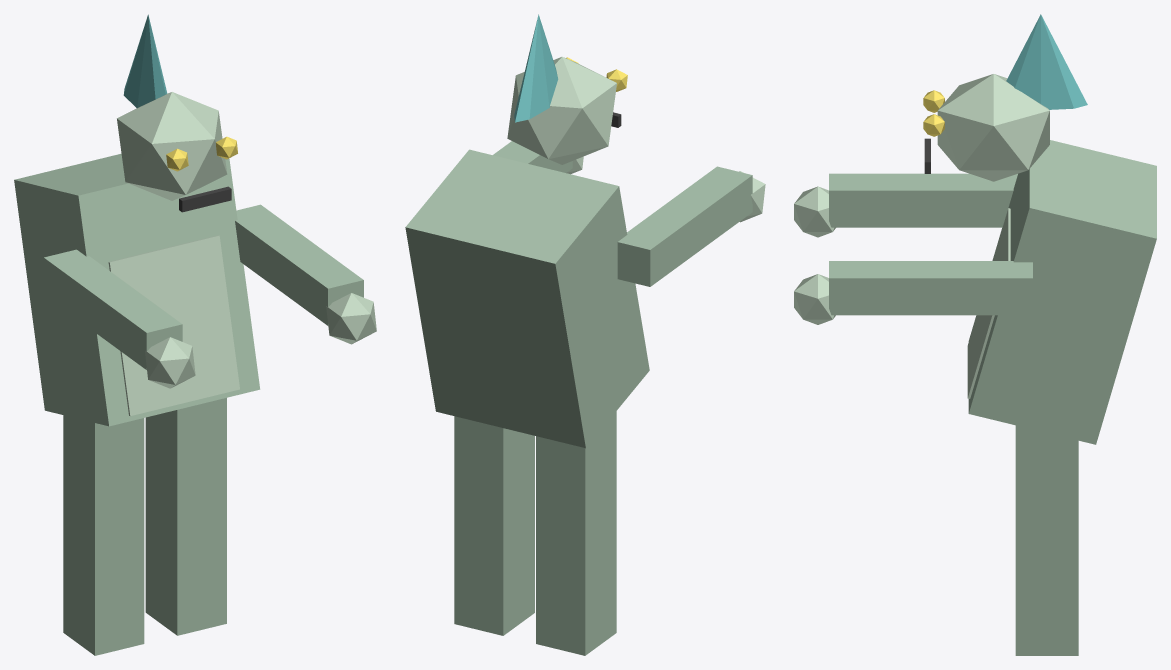
The model's file is Drowner.fbx.
3 views of the same model, side by side, from view 1: azimuth 30°, elevation 25°; view 2: azimuth 150°, elevation 25°; view 3: azimuth 270°, elevation 25° (orthographic).
Visible parts, largest first — view 1: Body, Limb_LegL, Limb_LegR, Limb_Head, Limb_ArmL, Limb_ArmR; view 2: Body, Limb_LegL, Limb_LegR, Limb_Head, Limb_ArmL, Limb_ArmR; view 3: Body, Limb_LegR, Limb_Head, Limb_ArmR, Limb_ArmL.
Part boxes in pixels (x1,y1,x2,y2): Body: [14, 153, 260, 426]; Limb_LegL: [63, 415, 144, 655]; Limb_LegR: [145, 398, 226, 635]; Limb_Head: [117, 14, 237, 212]; Limb_ArmL: [43, 249, 195, 388]; Limb_ArmR: [235, 204, 376, 344]; Body: [405, 149, 649, 448]; Limb_LegL: [536, 411, 616, 655]; Limb_LegR: [454, 416, 534, 635]; Limb_Head: [507, 14, 627, 164]; Limb_ArmL: [617, 166, 765, 286]; Limb_ArmR: [493, 141, 583, 174]; Body: [967, 140, 1156, 444]; Limb_LegR: [1015, 425, 1078, 655]; Limb_Head: [923, 14, 1087, 181]; Limb_ArmR: [794, 261, 1032, 324]; Limb_ArmL: [794, 173, 1017, 237].
Bounding box in the file's own units: 0.821 × 2.14 × 1.16.
